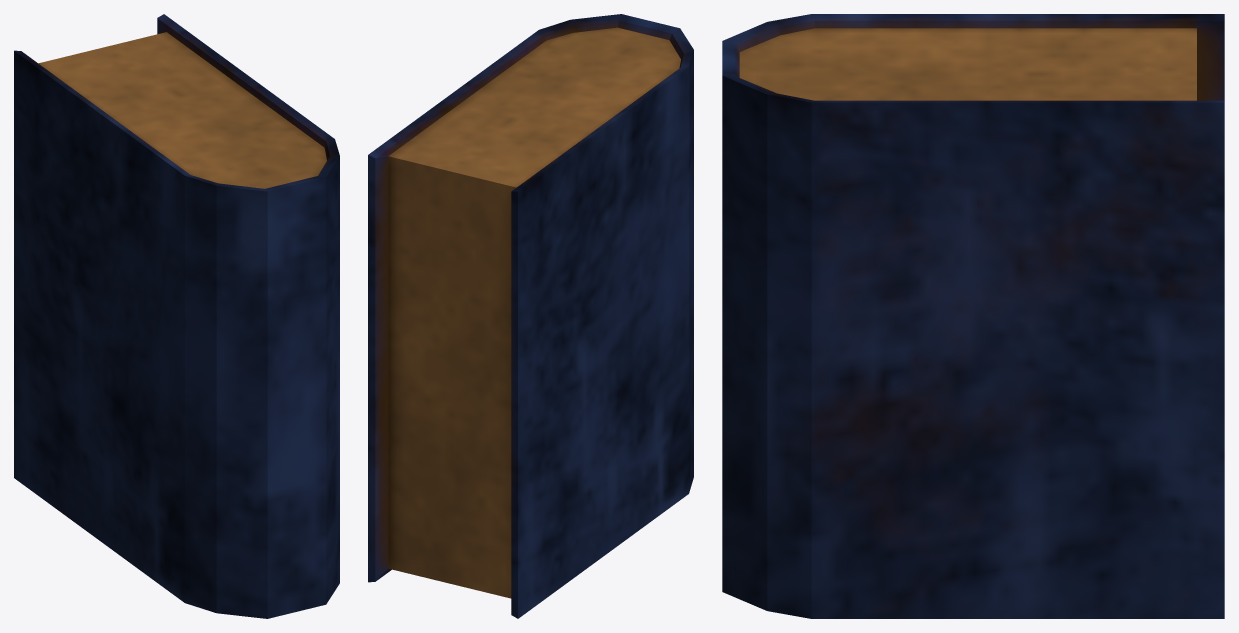
The model's file is Book3.fbx.
3 renders of one model, left to right at view 1: azimuth 30°, elevation 25°; view 2: azimuth 150°, elevation 25°; view 3: azimuth 270°, elevation 25°, orthographic. The views are drawn at different scales.
Parts seen in each view (by area): view 1: Book2.001; view 2: Book2.001; view 3: Book2.001.
Part boxes in pixels (<box>): Book2.001: <box>14,14,339,618</box>; Book2.001: <box>368,14,693,618</box>; Book2.001: <box>722,14,1224,618</box>.
Size of the model in its own units: 9.67 by 26.32 by 23.19.
Materials: 1 (1 with a texture image).
